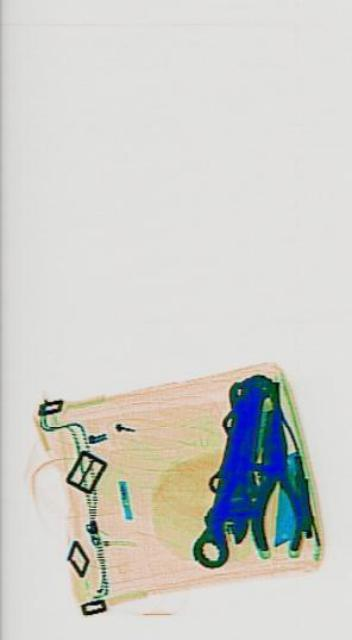Pliers: (244, 404, 299, 554)
Wrench: (187, 372, 262, 576)
